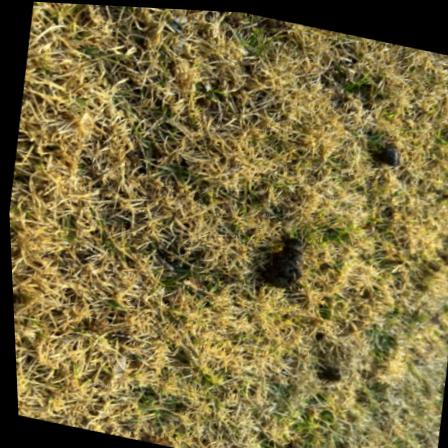dog-poop: (256, 227, 309, 290)
